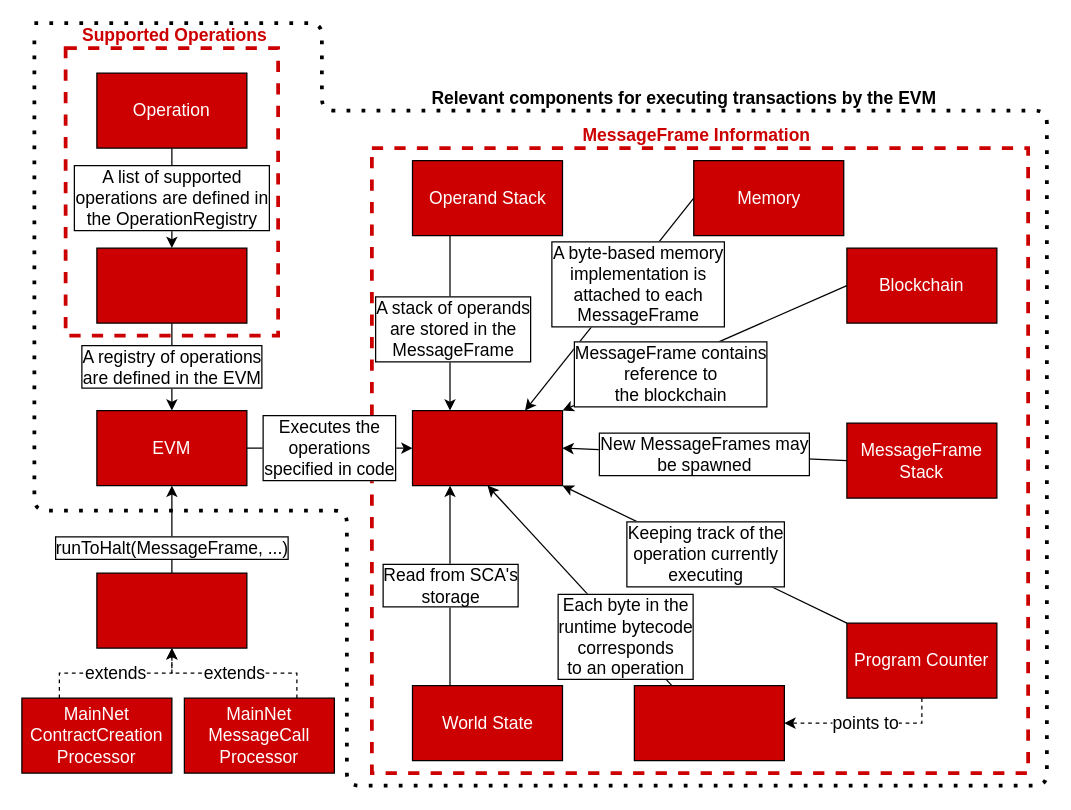
Image size: 1071x810. Some labels were removed from this diagram. Each missing label, with the centre of its shape:
"AbstractMessage Processor" belongs at [171,610].
"Code" belongs at [708,722].
"MessageFrame" belongs at [486,447].
"OperationRegistry" belongs at [171,285].
